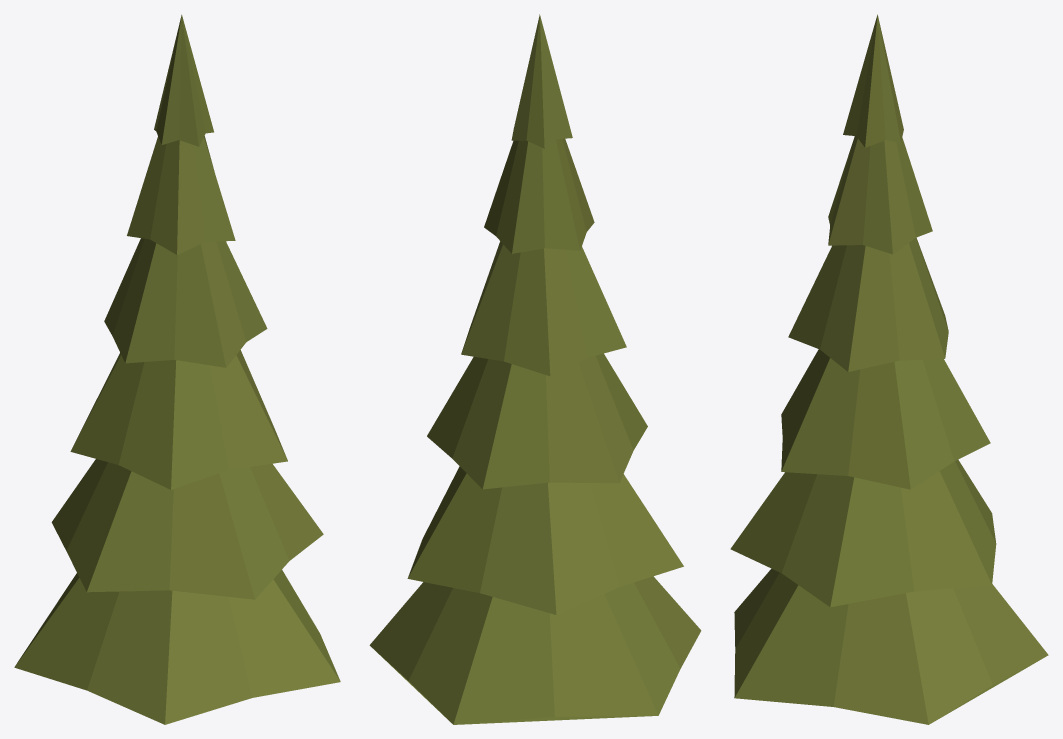
The model's file is Tree 1.fbx.
3 views of the same model, side by side, from view 1: azimuth 30°, elevation 25°; view 2: azimuth 150°, elevation 25°; view 3: azimuth 270°, elevation 25° (orthographic).
Parts seen in each view (by area): view 1: Tree 1; view 2: Tree 1; view 3: Tree 1.
Part boxes in pixels (x1=…): Tree 1: x1=14, y1=14, x2=340, y2=724; Tree 1: x1=369, y1=14, x2=701, y2=724; Tree 1: x1=730, y1=14, x2=1048, y2=724.
Bounding box in the file's own units: 3.62 × 8.2 × 3.48.
